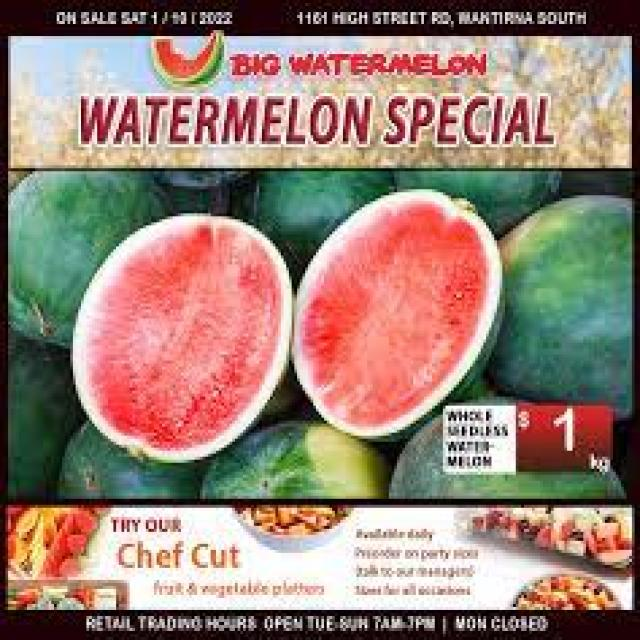watermelon: (70, 210, 292, 463), (289, 186, 505, 442), (486, 192, 635, 421), (6, 168, 170, 349), (386, 406, 627, 498), (197, 418, 389, 498), (54, 418, 200, 502), (149, 27, 224, 87)
